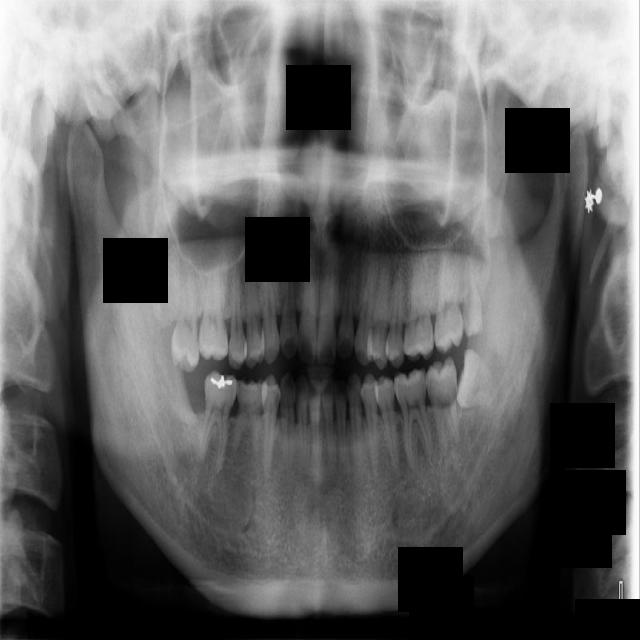52: (198, 367, 242, 413)
73: (614, 587, 622, 597)
BioHorizons Implant: (433, 239, 464, 355)
BioLife Implant: (462, 248, 483, 337)
Biomet 3i Implant: (452, 347, 500, 409)
Blue Sky Bio Implant: (424, 356, 462, 456)
Caries: (169, 255, 200, 374)
